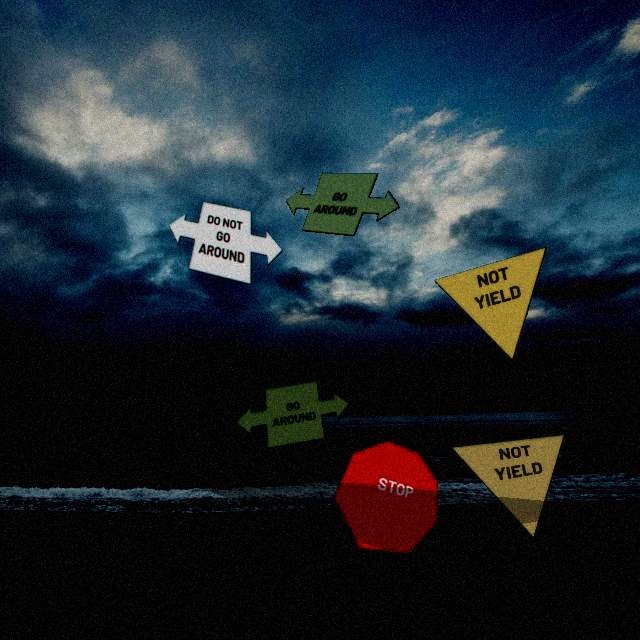DO_NOT_GO_AROUND: (168, 201, 283, 285)
GO_AROUND: (235, 380, 350, 449), (285, 172, 400, 236)
NOT_YIELD: (433, 246, 547, 361), (450, 434, 565, 539)
STOP: (332, 440, 438, 555)
